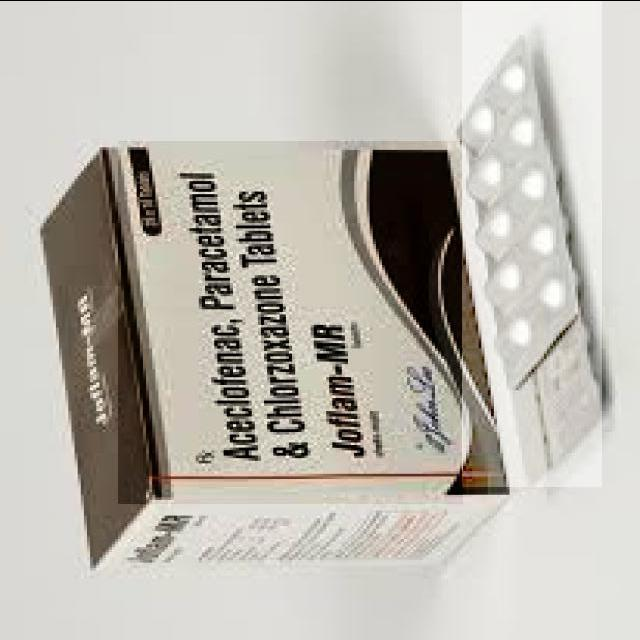authentic: (118, 140, 463, 503), (462, 0, 602, 486)
